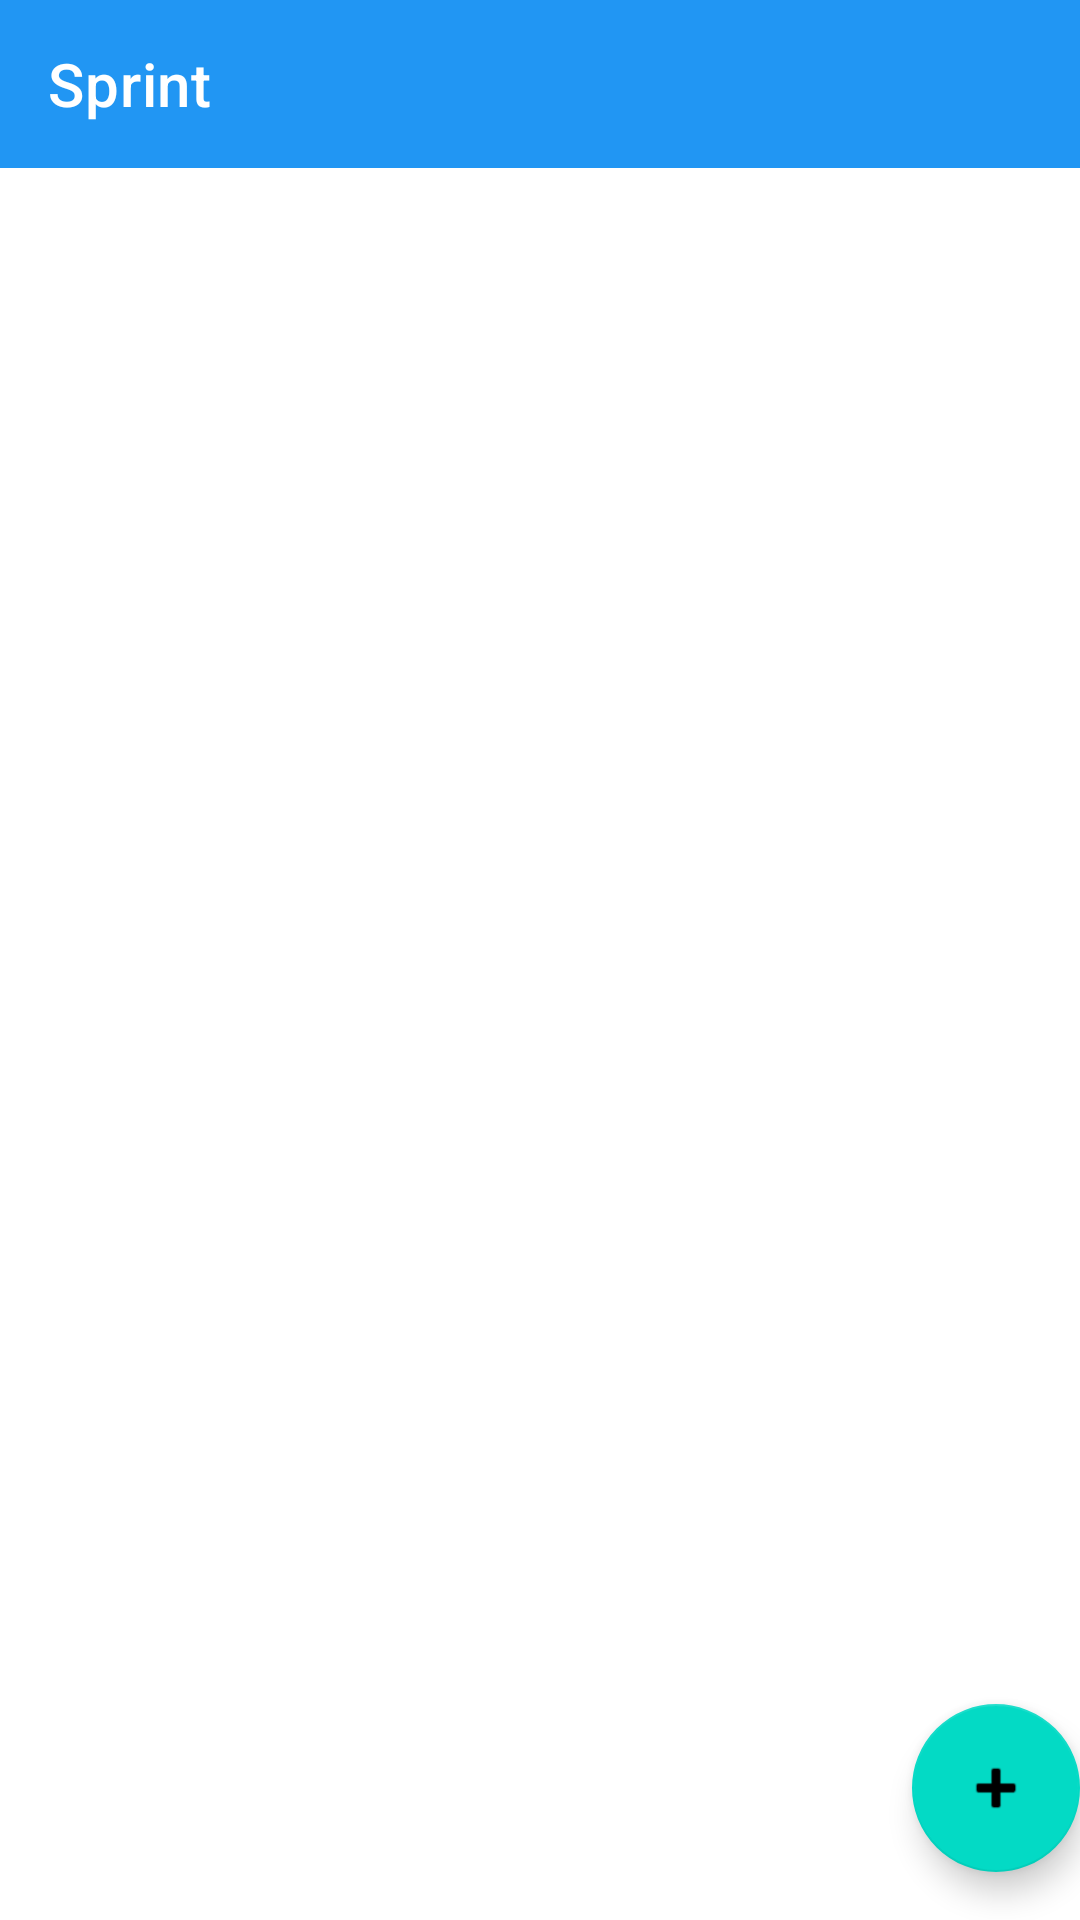

Screen size 1080px×1920px. Icon name, then its center in pixels as (x,y):
Add Task: (996,1788)
